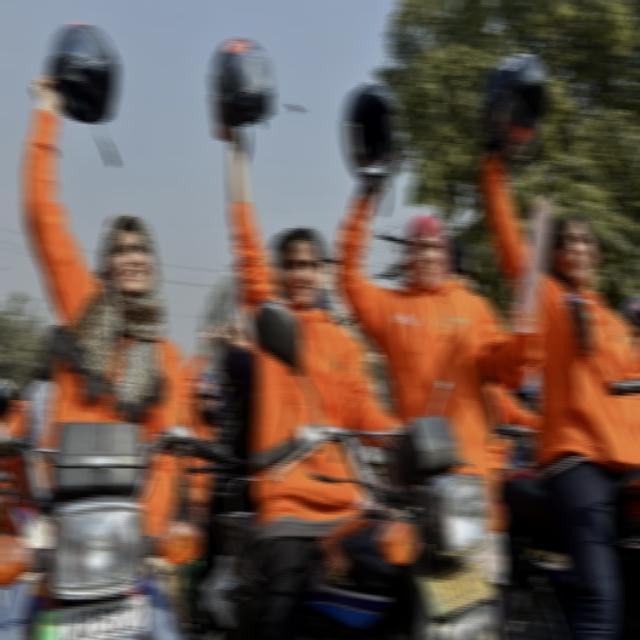Without Helmet: (95, 204, 163, 306), (271, 221, 331, 303), (399, 211, 455, 298)
